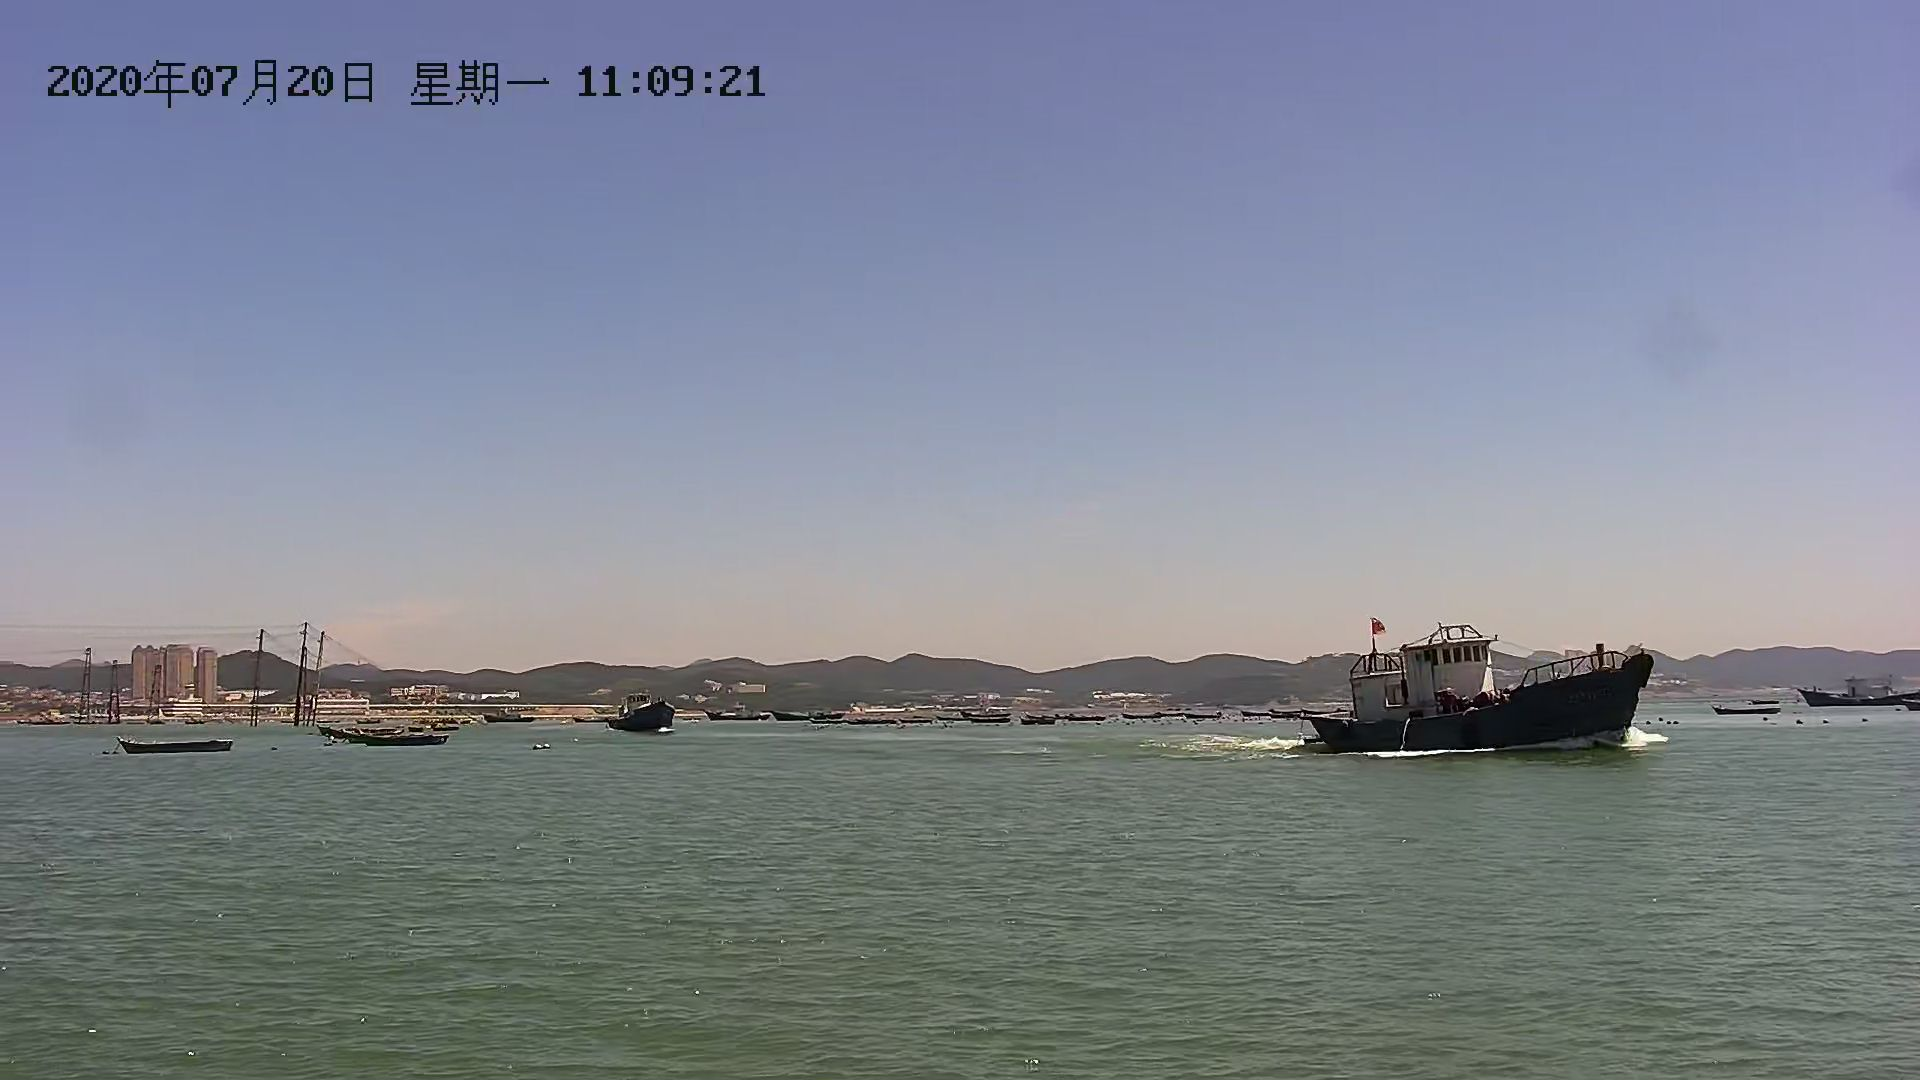boat: (116, 732, 240, 758), (1706, 704, 1792, 725), (365, 735, 458, 749), (319, 725, 415, 735)
mast: (252, 624, 266, 738), (310, 618, 324, 733), (107, 624, 121, 738), (76, 625, 91, 738), (146, 618, 160, 733), (291, 621, 305, 735)
ship: (1294, 622, 1673, 775), (1800, 675, 1920, 713), (617, 698, 675, 742)
